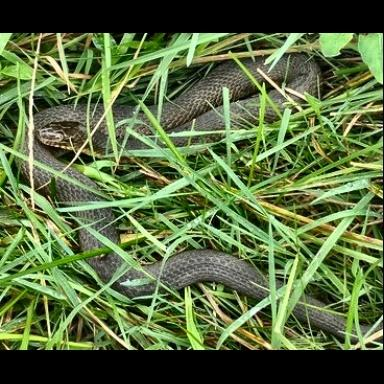snake: (7, 43, 382, 346)
